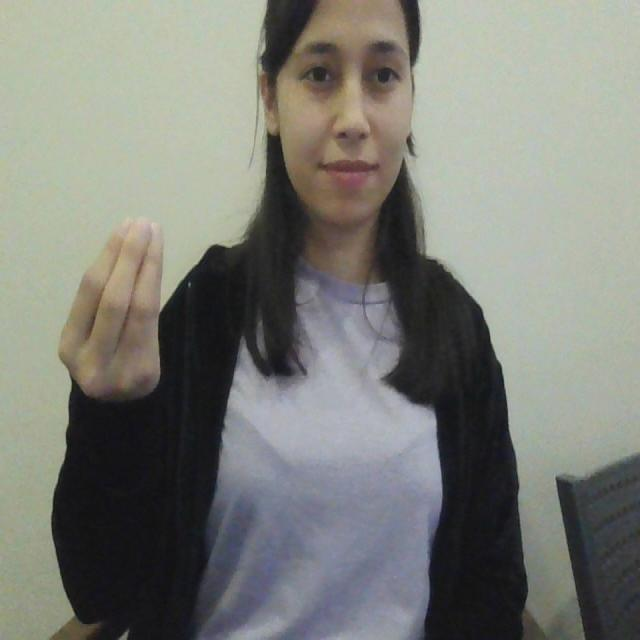iyi: (52, 208, 168, 406)
